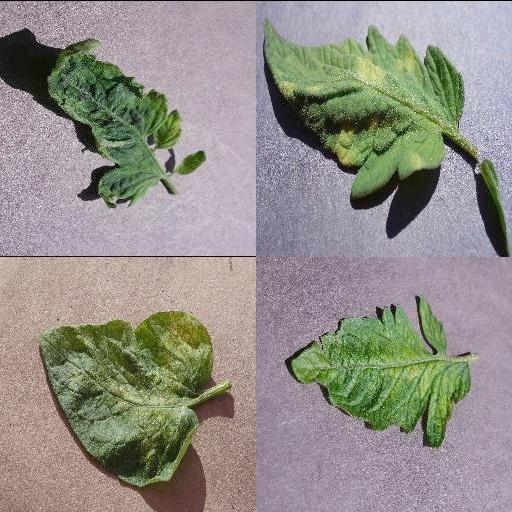Leaf Mold: (262, 19, 466, 197)
Mosaic Virus: (44, 35, 208, 209), (287, 293, 469, 449)
Spider Mites: (37, 310, 215, 485)
